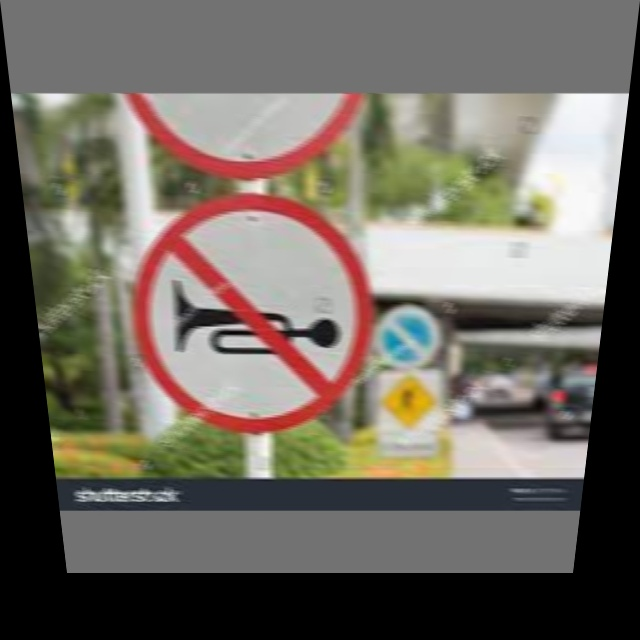Horn_Prohibited: (140, 198, 362, 426)
